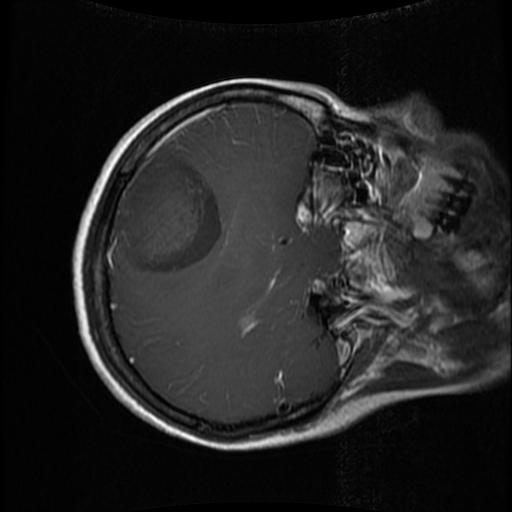glioma: (115, 148, 222, 275)
